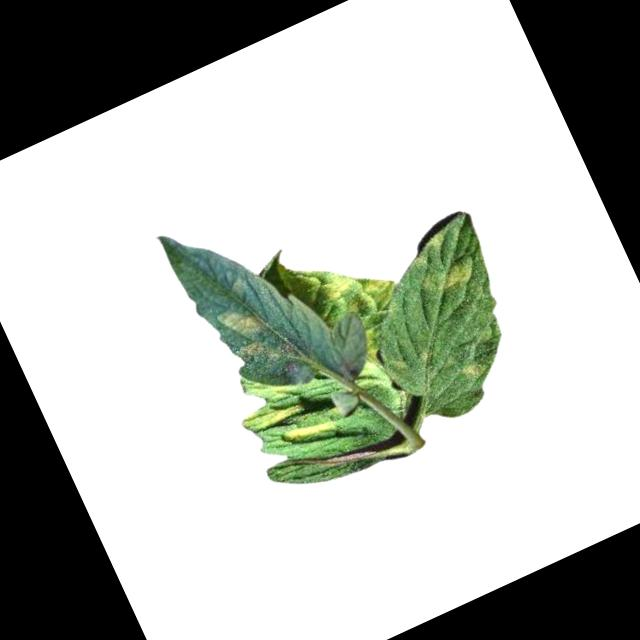Leaf_Mold: (301, 246, 427, 377), (235, 386, 308, 443), (413, 252, 482, 304), (278, 408, 342, 457), (216, 298, 267, 348), (455, 353, 489, 384)
